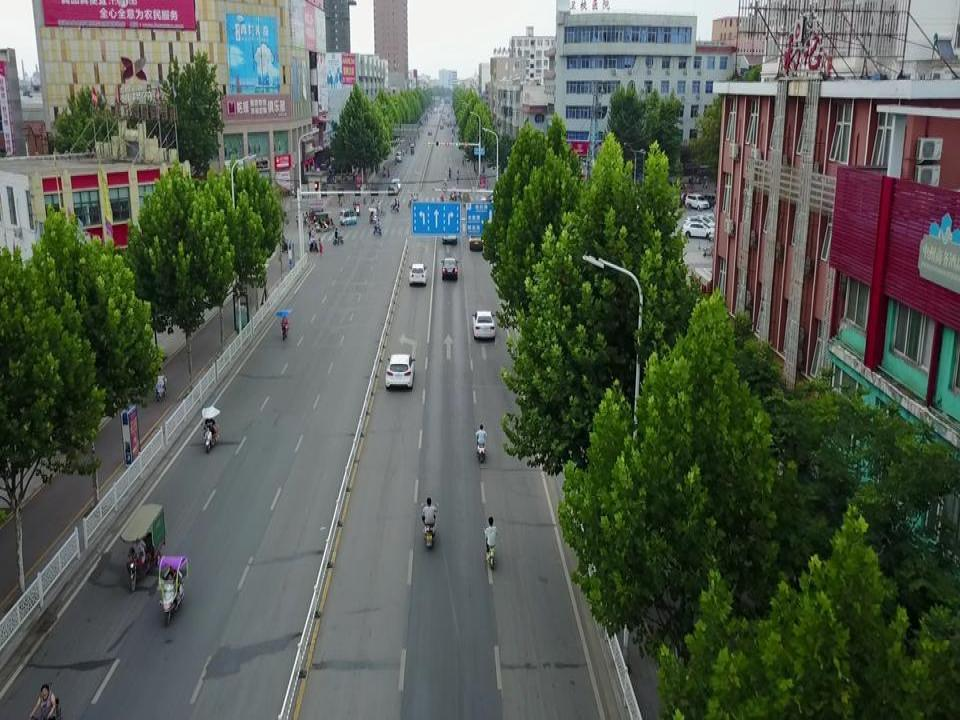car: (385, 355, 414, 392), (681, 220, 714, 241), (473, 309, 496, 339), (683, 214, 715, 234), (408, 261, 428, 287), (440, 258, 460, 282), (686, 193, 709, 212), (467, 228, 484, 251), (441, 226, 459, 246), (388, 182, 399, 195), (390, 178, 401, 190), (371, 187, 379, 196), (395, 151, 401, 161)
van: (339, 209, 358, 226)
